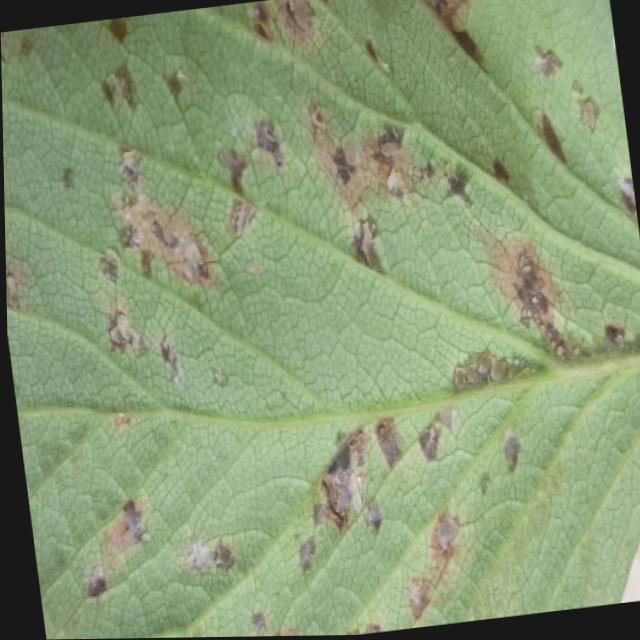Angular Leafspot: (1, 0, 640, 640)
